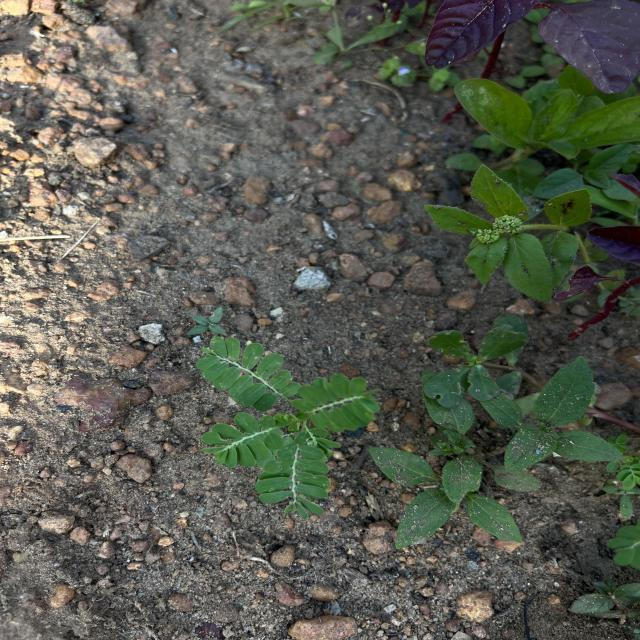Phyllanthus niruri: (192, 333, 301, 412), (256, 433, 334, 522), (291, 368, 382, 436), (198, 408, 286, 471)
